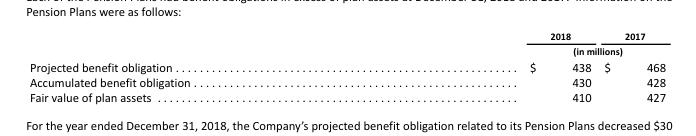table: (28, 29, 665, 104)
table column: (28, 29, 359, 104), (359, 29, 597, 104), (597, 29, 665, 104)
table column header: (28, 29, 665, 57)
table row: (28, 57, 665, 74), (28, 74, 665, 89), (28, 89, 665, 104), (28, 29, 665, 43), (28, 43, 665, 57)
table spanning cell: (359, 43, 665, 57)
